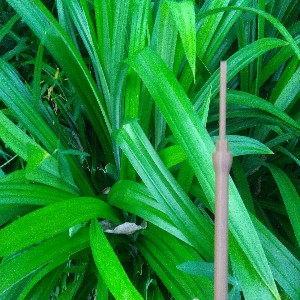obeng: (211, 59, 234, 300)
